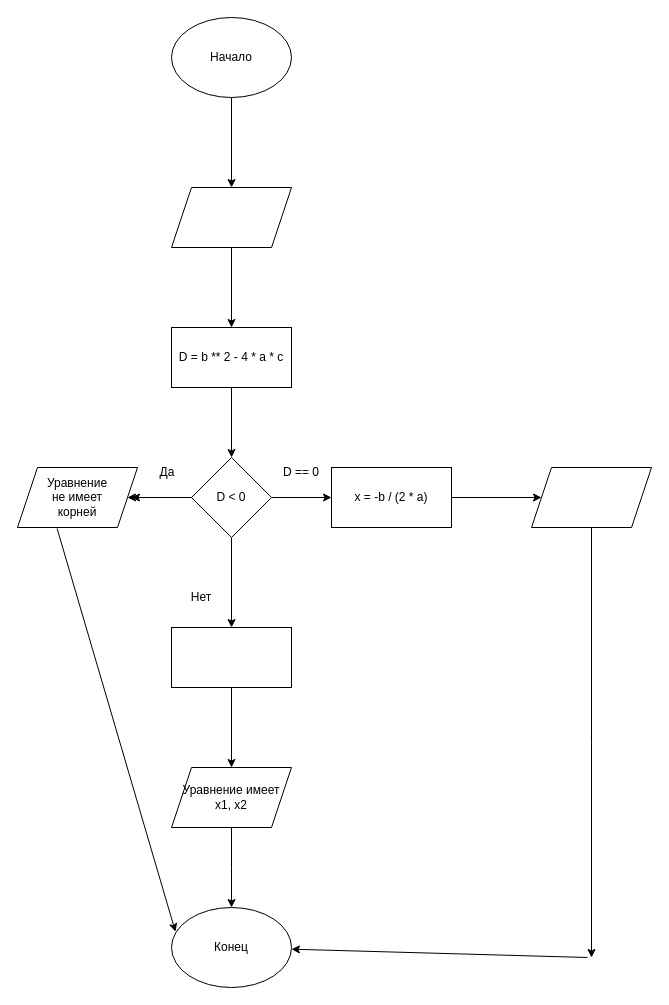
This 669x1005 diagram has some shape labels left out. Each missing label, with the box of its shape:
float a, b, c a != 0: (170, 186, 292, 248)
x1 = (-b + D ** 0.5) / (2 * a) x2 = (-b - D ** 0.5) / (2 * a): (170, 626, 292, 688)
Уравнение имеет один корень x: (530, 466, 652, 528)
